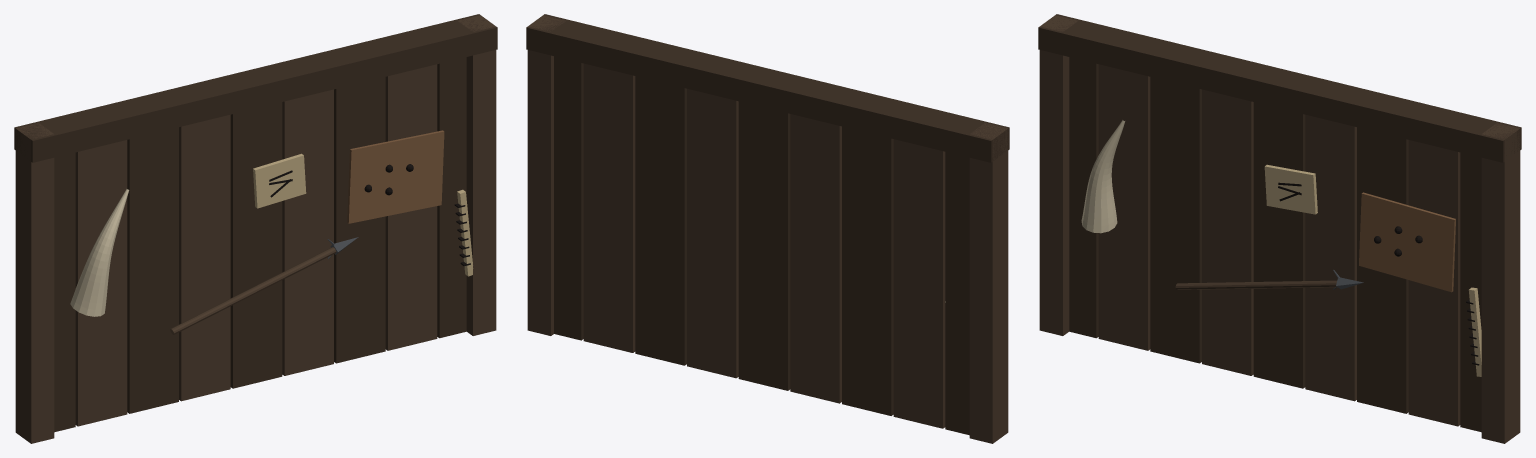
Rendered from dragonspine-trophy-wall.glb.
3 views of the same model, side by side, from view 1: azimuth 30°, elevation 25°; view 2: azimuth 150°, elevation 25°; view 3: azimuth 330°, elevation 25° (orthographic).
Parts seen in each view (by area): view 1: Body_Wood, Body_WoodDark, Body_Main, Body_WoodCut, Body_Paper, Body_Dark; view 2: Body_Wood, Body_WoodDark; view 3: Body_Wood, Body_WoodDark, Body_Main, Body_WoodCut, Body_Paper, Body_Dark.
Boxes of the visible parts, x1=… form: Body_Wood: x1=15, y1=15, x2=496, y2=443; Body_WoodDark: x1=14, y1=14, x2=497, y2=432; Body_Main: x1=347, y1=130, x2=444, y2=223; Body_WoodCut: x1=253, y1=153, x2=473, y2=276; Body_Paper: x1=70, y1=189, x2=129, y2=316; Body_Dark: x1=269, y1=164, x2=470, y2=266; Body_Wood: x1=527, y1=15, x2=1008, y2=443; Body_WoodDark: x1=526, y1=14, x2=1009, y2=435; Body_Wood: x1=1039, y1=15, x2=1520, y2=443; Body_WoodDark: x1=1038, y1=14, x2=1521, y2=432; Body_Main: x1=1359, y1=192, x2=1455, y2=292; Body_WoodCut: x1=1264, y1=164, x2=1481, y2=376; Body_Paper: x1=1081, y1=120, x2=1125, y2=233; Body_Dark: x1=1278, y1=182, x2=1479, y2=365.
Size of the model in its own units: 4 by 2.5 by 0.4.
